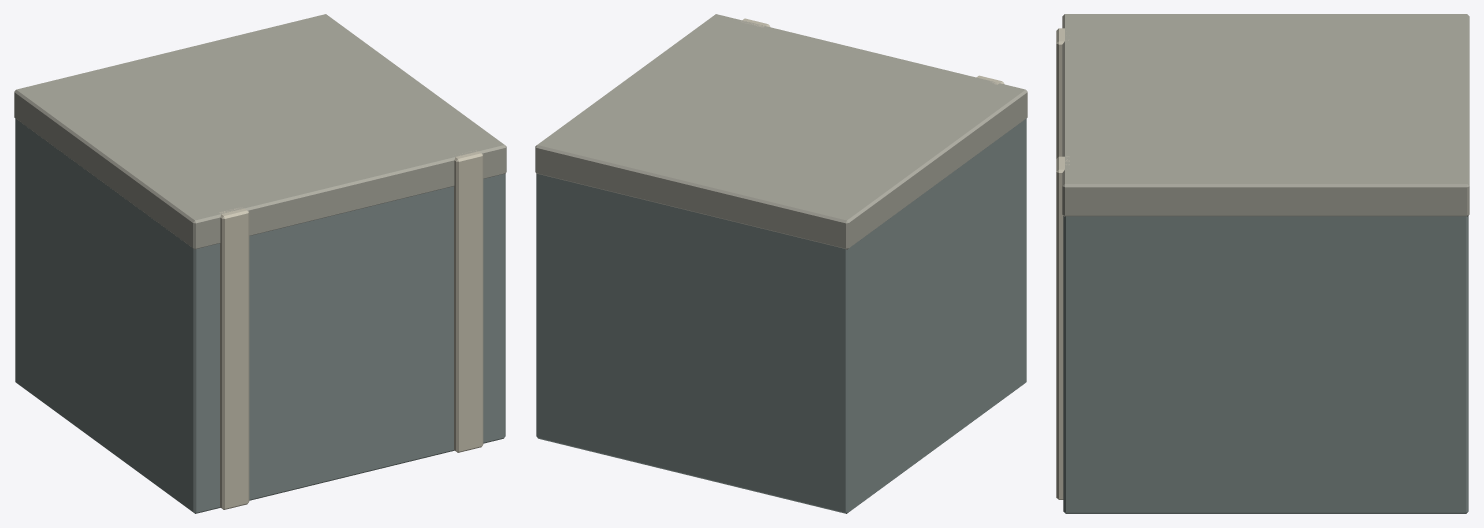
File: rampart_mass.glb
3 renders of one model, left to right at view 1: azimuth 30°, elevation 25°; view 2: azimuth 150°, elevation 25°; view 3: azimuth 270°, elevation 25°, orthographic. The views are drawn at different scales.
Visible parts, largest first — view 1: TV_rampart_mass; view 2: TV_rampart_mass; view 3: TV_rampart_mass.
Part boxes in pixels (x1,y1,x2,y2): TV_rampart_mass: (14,14,506,513); TV_rampart_mass: (535,14,1027,513); TV_rampart_mass: (1056,14,1469,513).
Bounding box in the file's own units: 4.02 × 3.6 × 4.08.
